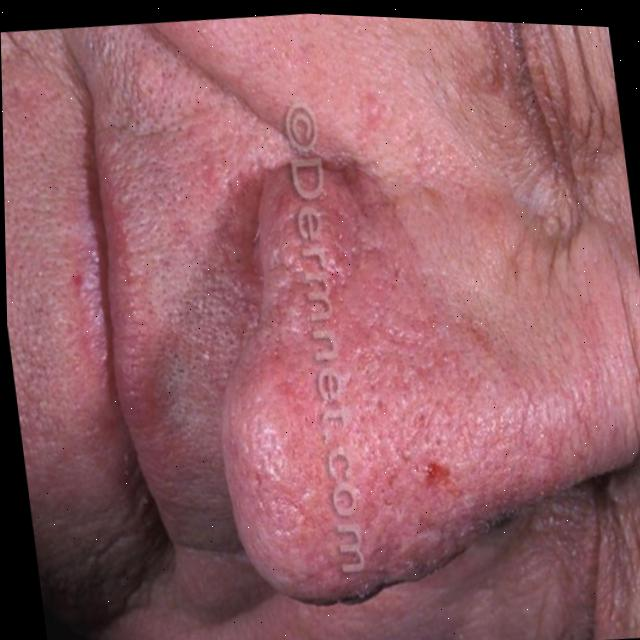Rosacea: (209, 128, 593, 604)
